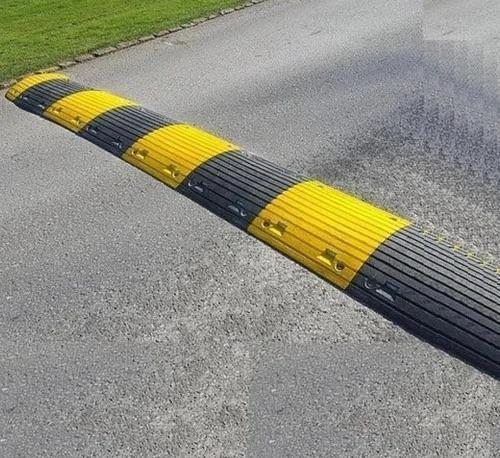speedbreaker: (0, 70, 500, 365)
